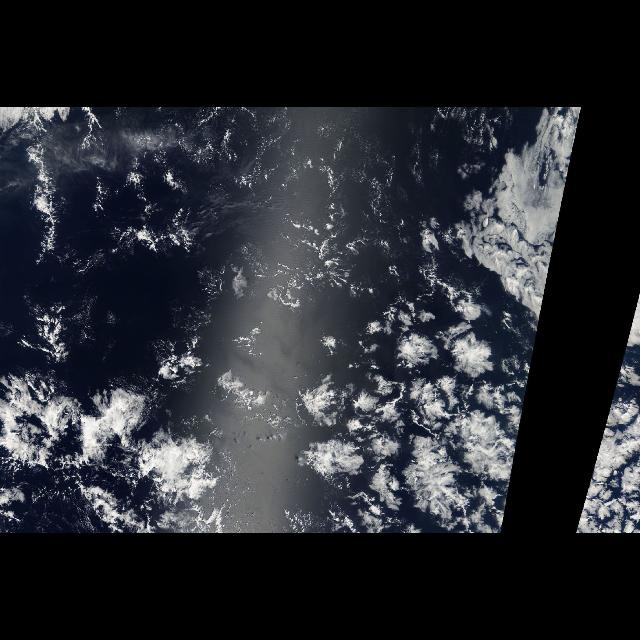Flower: (26, 311, 532, 529)
Gravel: (34, 147, 488, 300)
